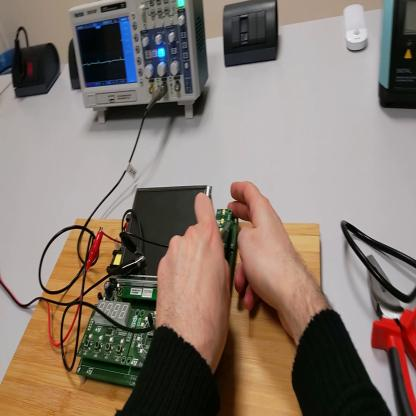hand: (155, 191, 233, 364), (229, 180, 299, 316)
low voltage board: (75, 185, 238, 391)
oscilloscope: (70, 2, 209, 124)
oscilloscope probe tip: (221, 215, 235, 248)
pliers: (366, 250, 416, 415)
socket: (12, 38, 61, 97), (69, 37, 82, 92)
welder station: (380, 1, 416, 112)
working area: (2, 218, 324, 415)
